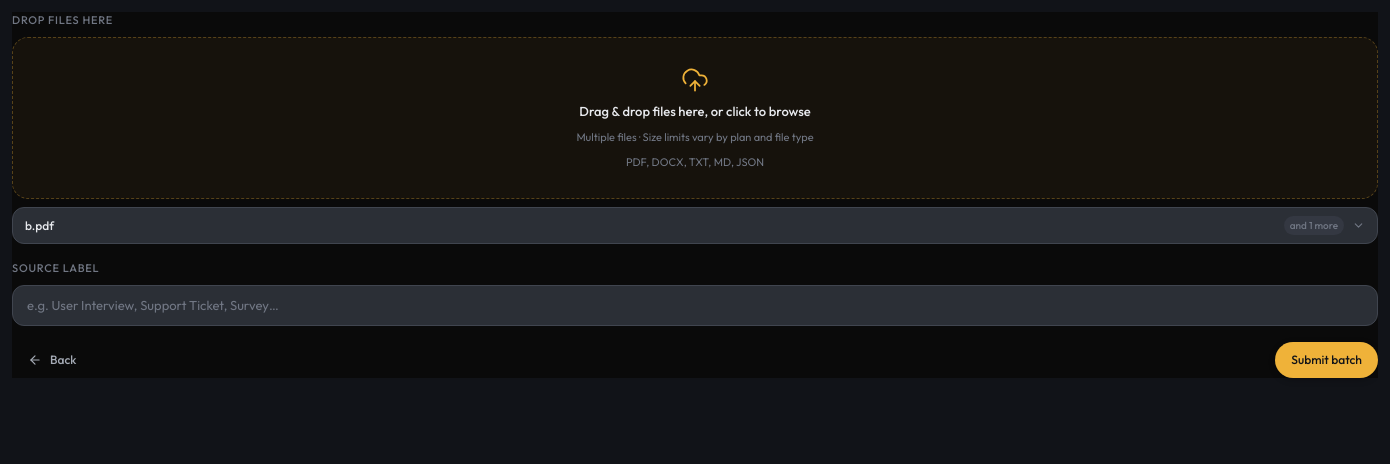
it: StepUpload › expands to show all filenames when toggle is clicked
The image size is (1390, 464).
Click the button "b.pdf and 1 more" at (1314, 226), box [13,208,1377,243]
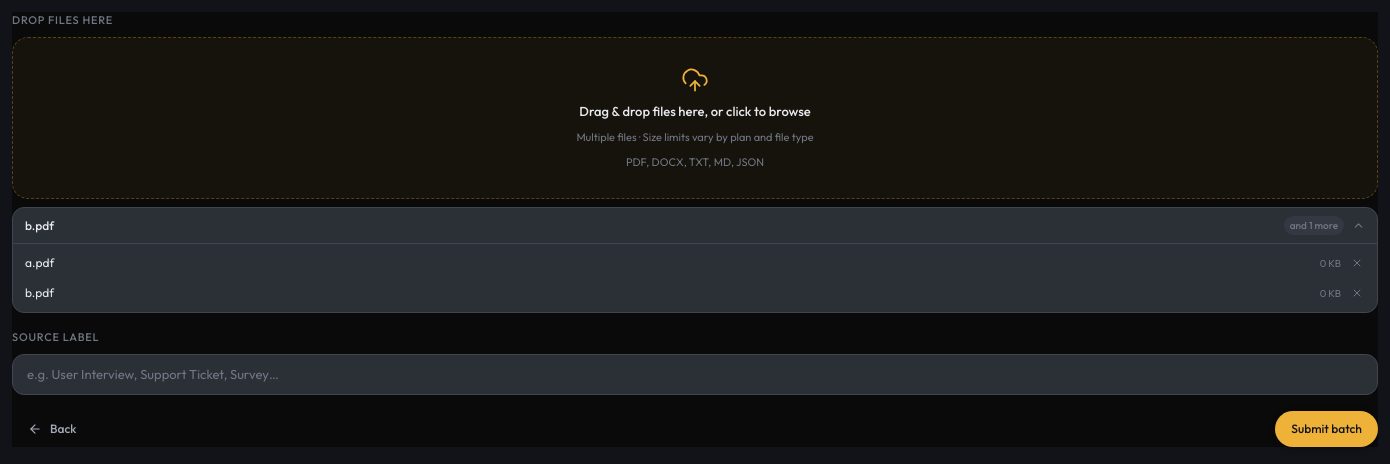
expect the 1st text "b.pdf" is shown: met, box [25,218,54,232]
expect the text "a.pdf" is shown: met, box [25,255,54,270]
